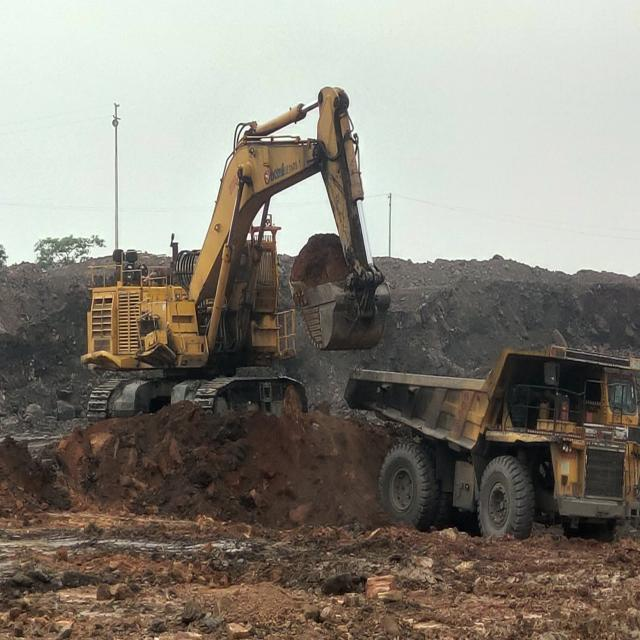dump_truck: (344, 348, 640, 543)
excavator: (80, 87, 392, 419)
